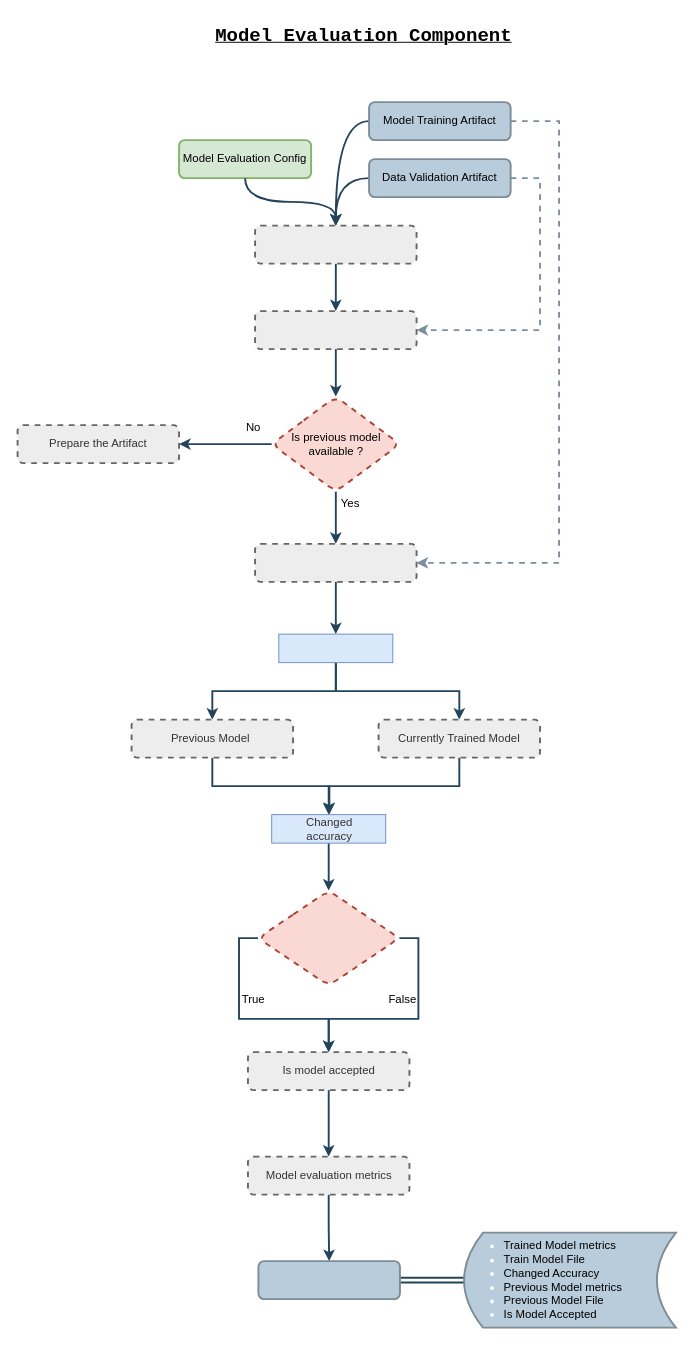
This 693x1348 diagram has some shape labels left out. Each missing label, with the centre of its shape:
"Changed Accuracy > Threshold" belongs at point (328, 937).
"Compute F1 Score" belongs at point (335, 648).
"Fetch the Previosly Trained Model" belongs at point (335, 562).
"Initiate Model Evaluation" belongs at point (335, 244).
"Model Evaluation Artifact" belongs at point (328, 1280).
"Read Data" belongs at point (335, 330).
